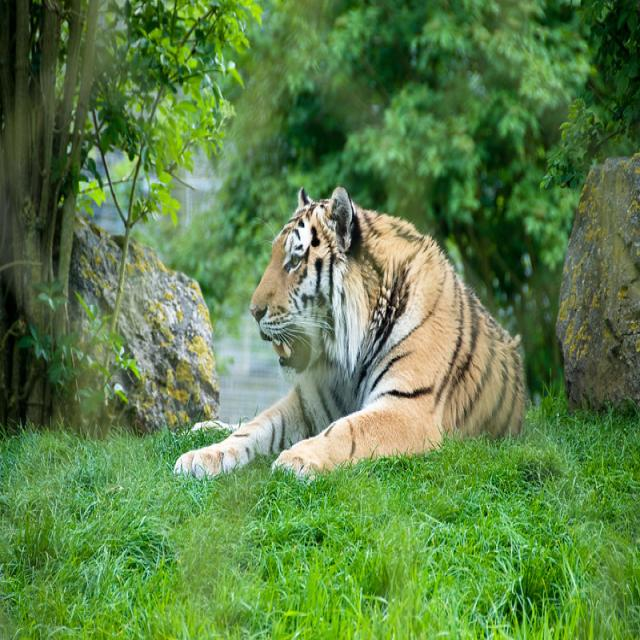Tiger: (167, 181, 537, 484)
